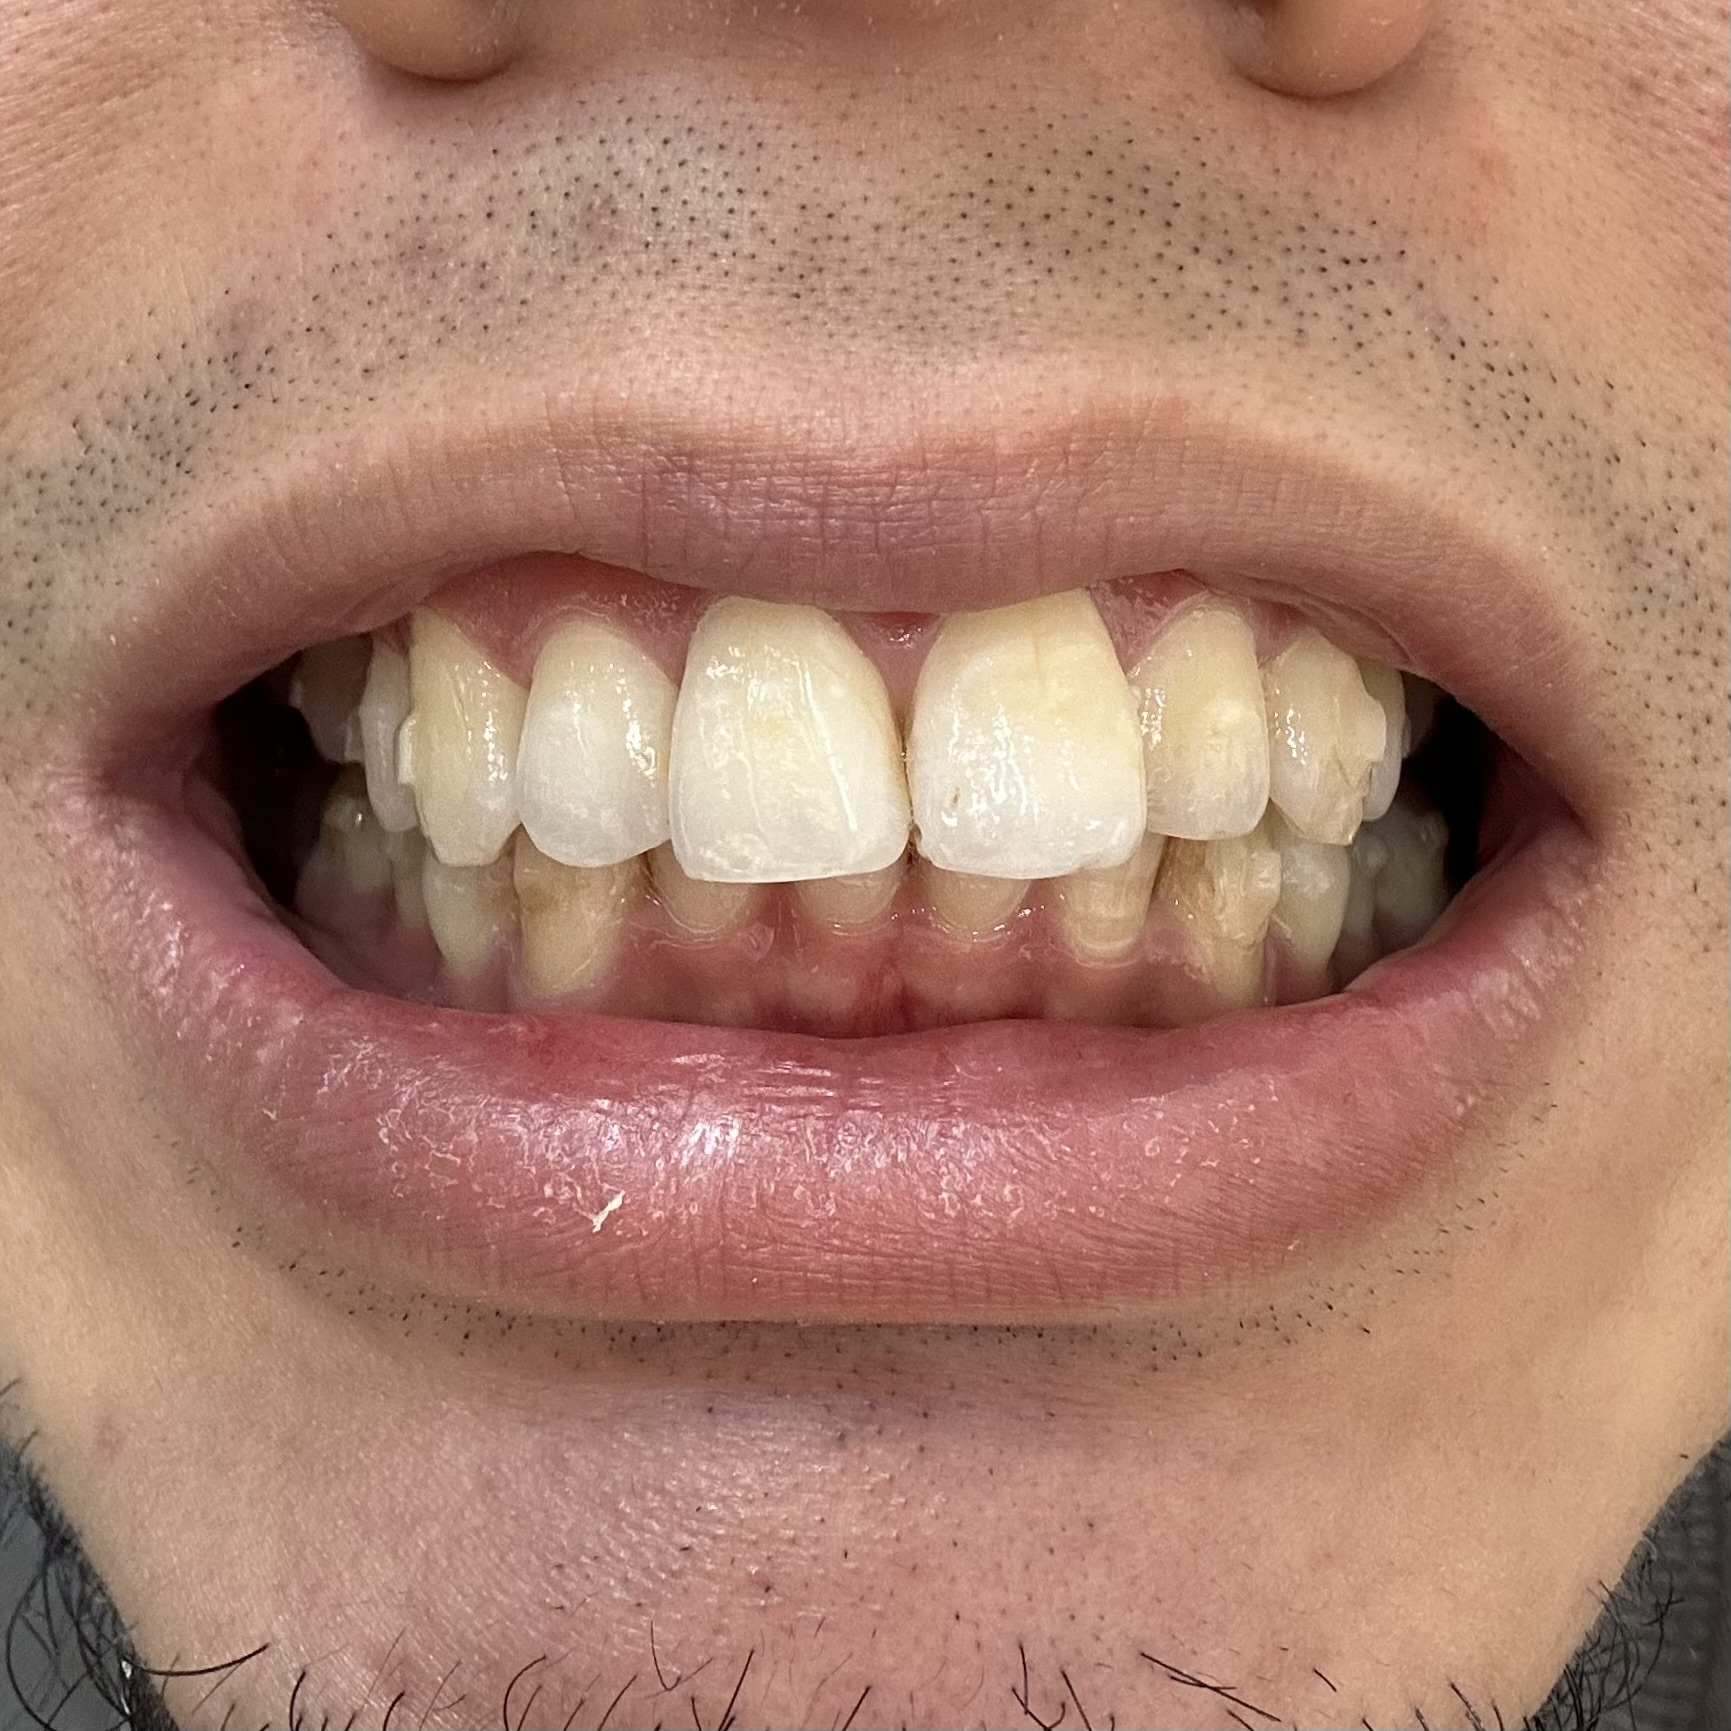teeth: (664, 612, 900, 864), (919, 604, 1135, 858), (520, 628, 653, 859), (1141, 609, 1259, 816), (415, 625, 515, 853), (1273, 640, 1368, 840), (1159, 837, 1270, 1007), (515, 859, 640, 995), (417, 853, 504, 969), (358, 658, 415, 821), (1279, 827, 1343, 972), (295, 644, 365, 753), (659, 859, 762, 927), (1378, 815, 1447, 915), (1078, 869, 1151, 953), (932, 878, 1022, 935), (805, 873, 891, 926), (1347, 848, 1379, 926)
